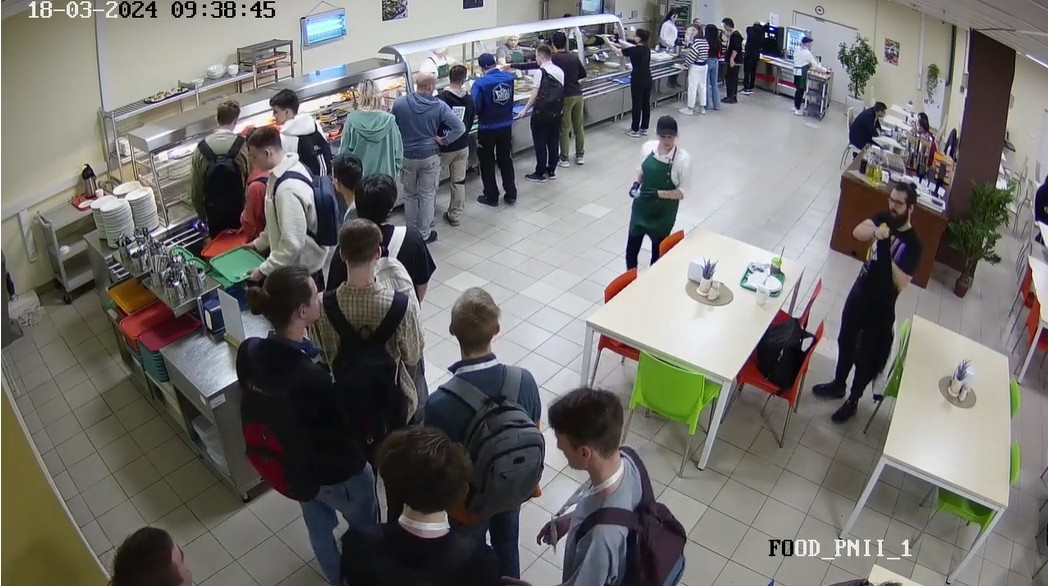Na_Kasse: (683, 27, 705, 112), (704, 23, 725, 108), (724, 17, 740, 100), (746, 23, 761, 91)
Ne_v_Ocheredi: (226, 265, 375, 573), (418, 283, 548, 537), (338, 433, 530, 586), (534, 386, 676, 586), (319, 219, 419, 434), (812, 183, 917, 387), (88, 522, 230, 586), (349, 179, 427, 283), (320, 149, 369, 236)
Personal: (620, 117, 688, 272), (790, 40, 813, 108), (648, 6, 680, 45), (422, 38, 455, 67), (685, 8, 707, 31), (501, 25, 522, 48)
Vybiraet: (241, 128, 320, 264), (471, 50, 527, 200), (401, 75, 448, 241), (192, 94, 248, 232), (335, 72, 407, 178), (257, 80, 329, 164), (557, 26, 594, 165), (443, 67, 476, 219), (531, 44, 560, 176), (626, 27, 654, 136)
Za_Stolom: (844, 98, 882, 158), (911, 112, 940, 142), (1037, 172, 1048, 235)
